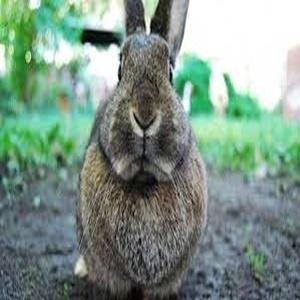rabbit: (75, 0, 207, 298)
